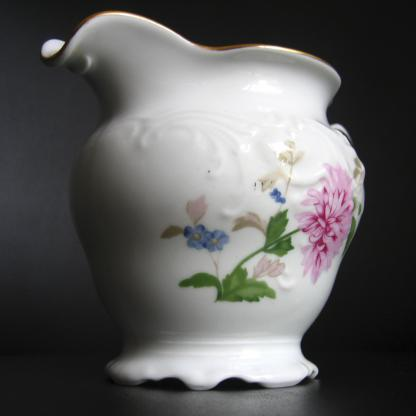vase: (38, 12, 366, 392)
